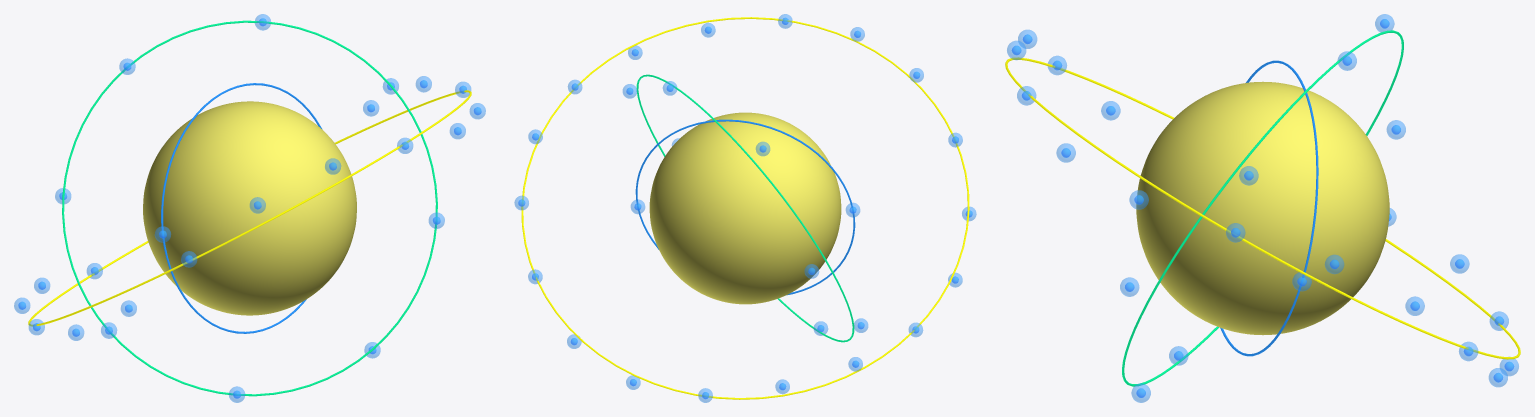
3 renders of one model, left to right at view 1: azimuth 30°, elevation 25°; view 2: azimuth 150°, elevation 25°; view 3: azimuth 270°, elevation 25°, orthographic. The views are drawn at different scales.
Visible parts, largest first — view 1: Ni, object 7, object 24, object 2; view 2: Ni, object 24, object 7, object 2; view 3: Ni, object 24, object 7, object 2.
Part boxes in pixels (left/top/right/bottom): Ni: left=143, top=101, right=356, bottom=315; object 7: left=62, top=20, right=437, bottom=396; object 24: left=28, top=90, right=471, bottom=326; object 2: left=161, top=83, right=322, bottom=333; Ni: left=649, top=112, right=841, bottom=304; object 24: left=521, top=17, right=969, bottom=399; object 7: left=636, top=74, right=854, bottom=342; object 2: left=635, top=119, right=855, bottom=295; Ni: left=1136, top=81, right=1389, bottom=335; object 24: left=1005, top=57, right=1520, bottom=359; object 7: left=1122, top=30, right=1403, bottom=386; object 2: left=1220, top=60, right=1318, bottom=356.
Size of the model in its own units: 4.7 by 3.31 by 4.2.
